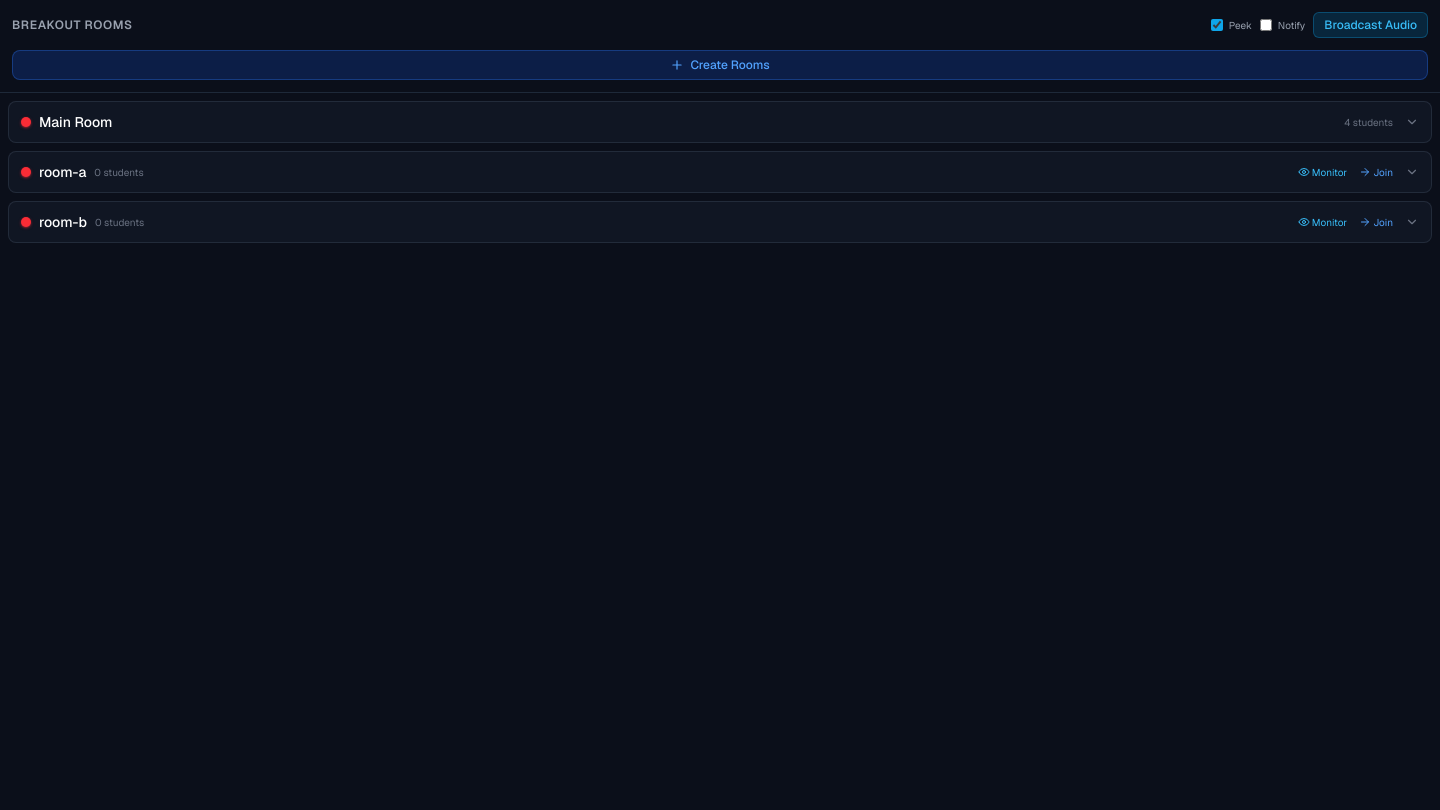
Test: BreakoutTab — Sidebar Room List View › clicking Create Rooms button opens the CreateBreakoutModal
The width and height of the screenshot is (1440, 810).
Click the button with test id "create-rooms-btn" at {"x": 720, "y": 65}, box [12, 50, 1428, 80]
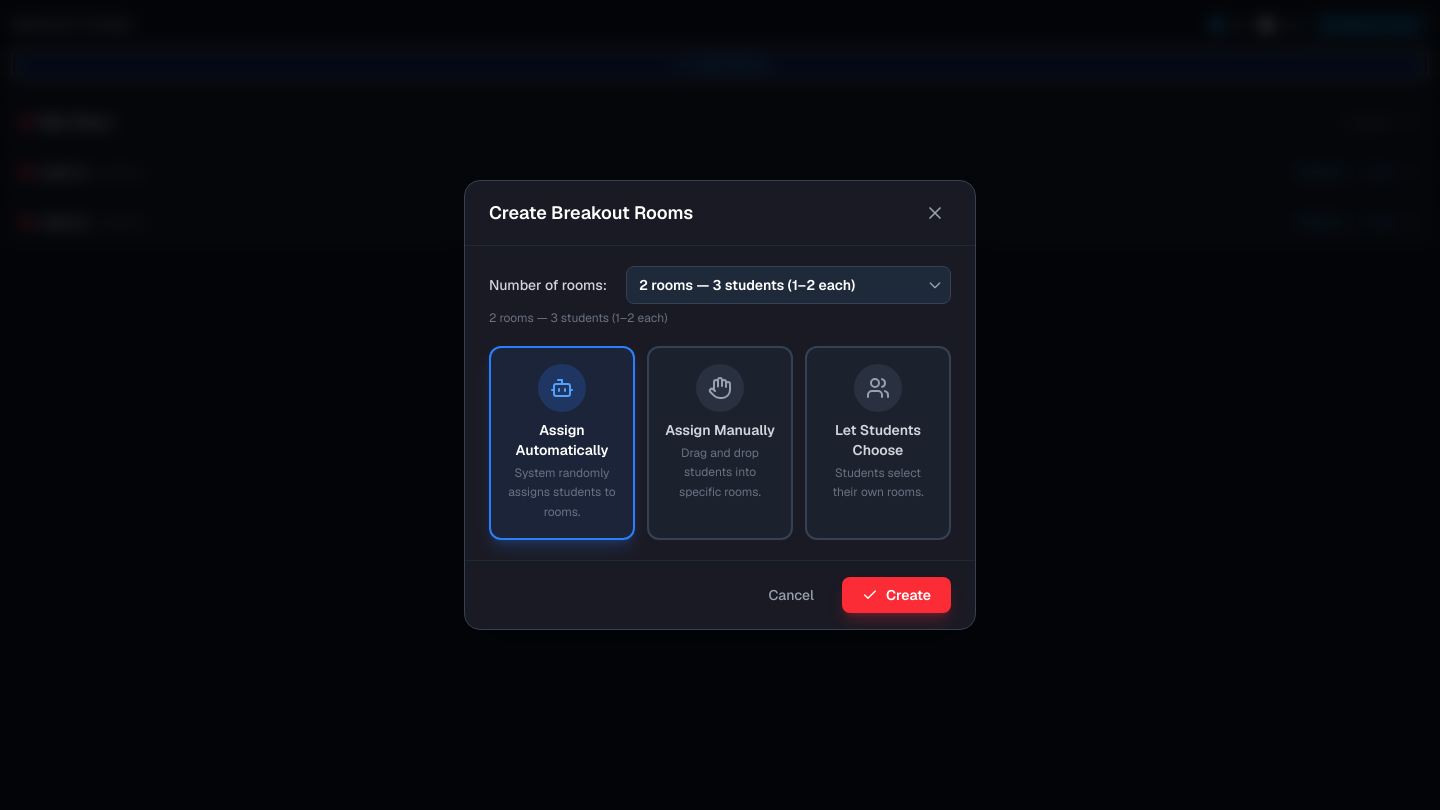
Expected: the element with test id "create-breakout-modal" is shown
